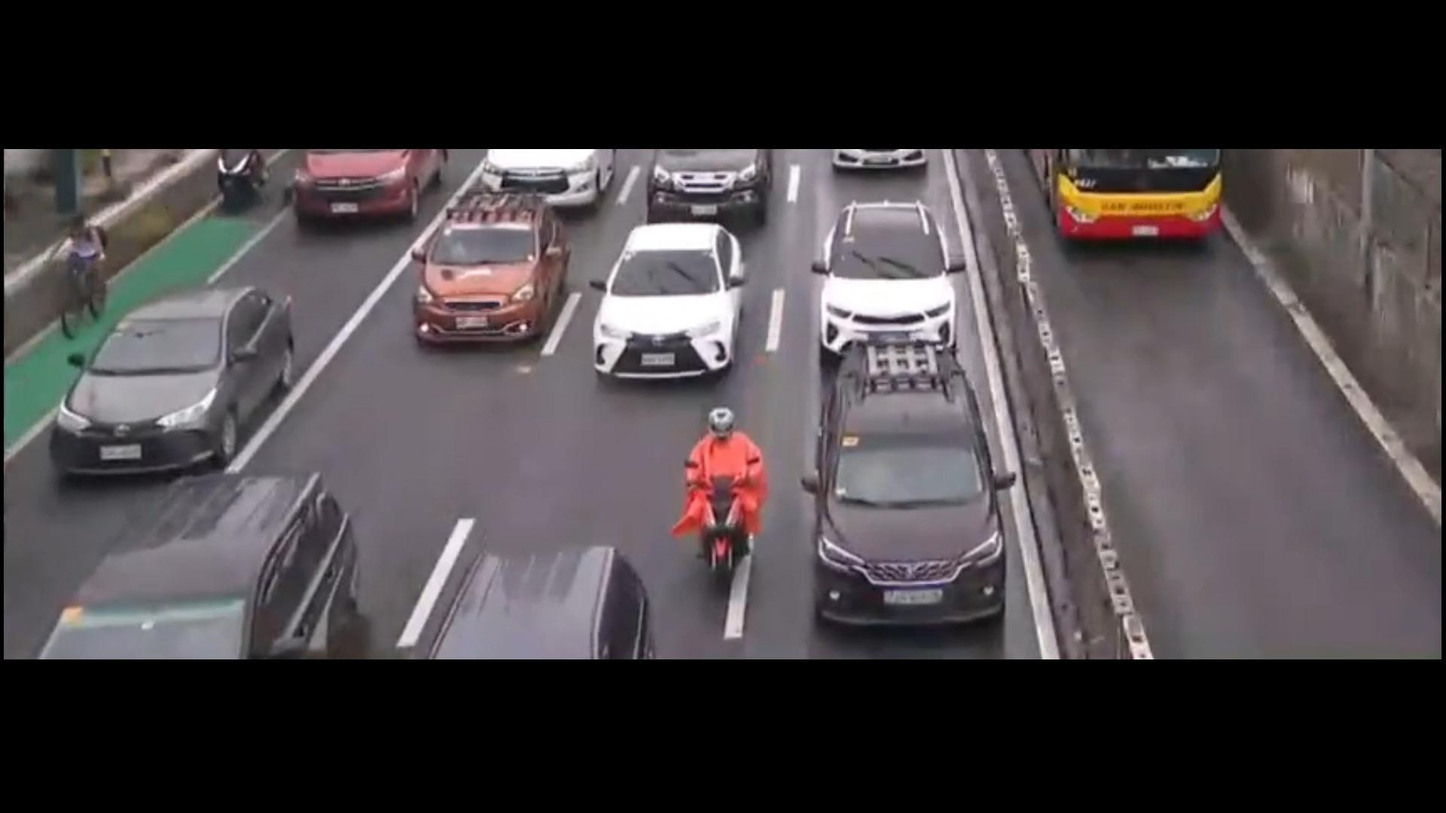Bicycle: (39, 200, 155, 343)
Motorcycle: (669, 396, 792, 626), (206, 149, 280, 215)
SUV: (782, 332, 1045, 646)
Sedan: (47, 268, 322, 507), (795, 175, 996, 372), (398, 194, 581, 377), (590, 213, 763, 406)
